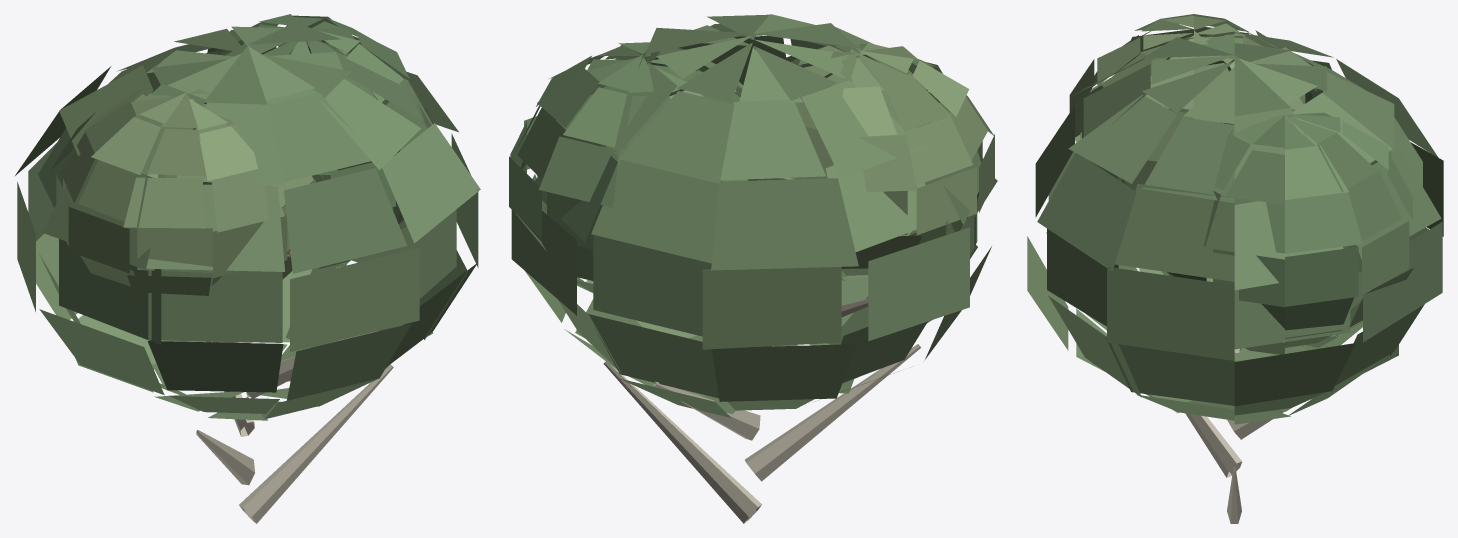
File: tree_birch_a.gltf
The picture shows the model from 3 angles, left to right: view 1: azimuth 30°, elevation 25°; view 2: azimuth 150°, elevation 25°; view 3: azimuth 270°, elevation 25°; orthographic projection. The views are drawn at different scales.
Visible parts, largest first — view 1: Birch A; view 2: Birch A; view 3: Birch A.
Part boxes in pixels (<box>): Birch A: <box>14,14,480,523</box>; Birch A: <box>509,14,997,523</box>; Birch A: <box>1027,14,1443,523</box>.
Bounding box in the file's own units: 4.69 × 5.08 × 4.12.
